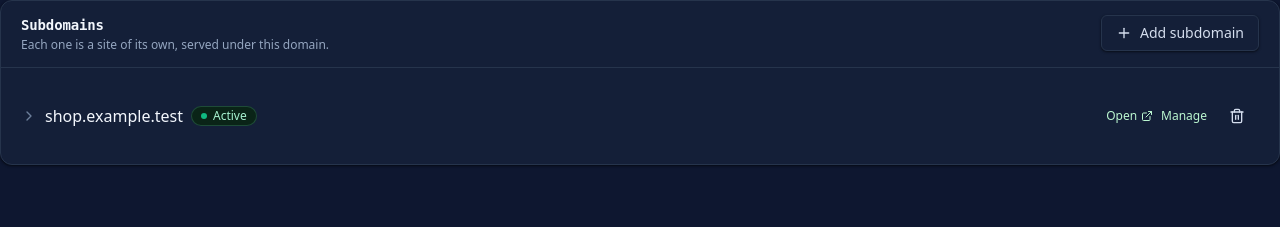
Test: SubdomainPanel › lists the sites beneath a website with where their files live
The image size is (1280, 227).
Check: the text "/var/www/example.test/shop.example.test/public" is not shown
Click the text "shop.example.test". click: coordinates (114, 116)
box: [45, 104, 183, 128]
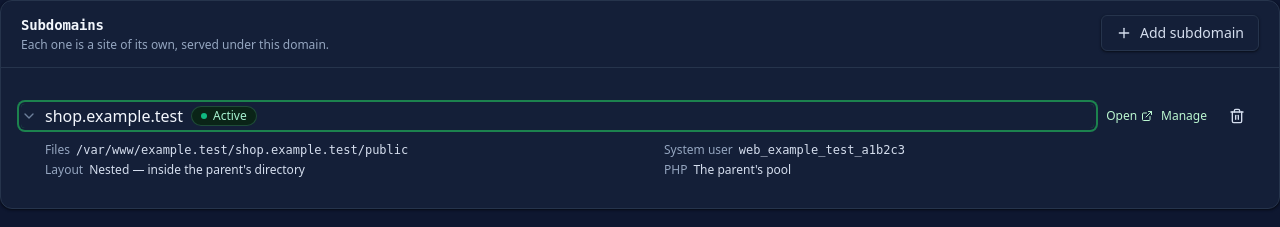
Check: the text "/var/www/example.test/shop.example.test/public" is shown, box [76, 142, 408, 158]
Check: the text "The parent's pool" is shown, box [693, 162, 791, 178]
